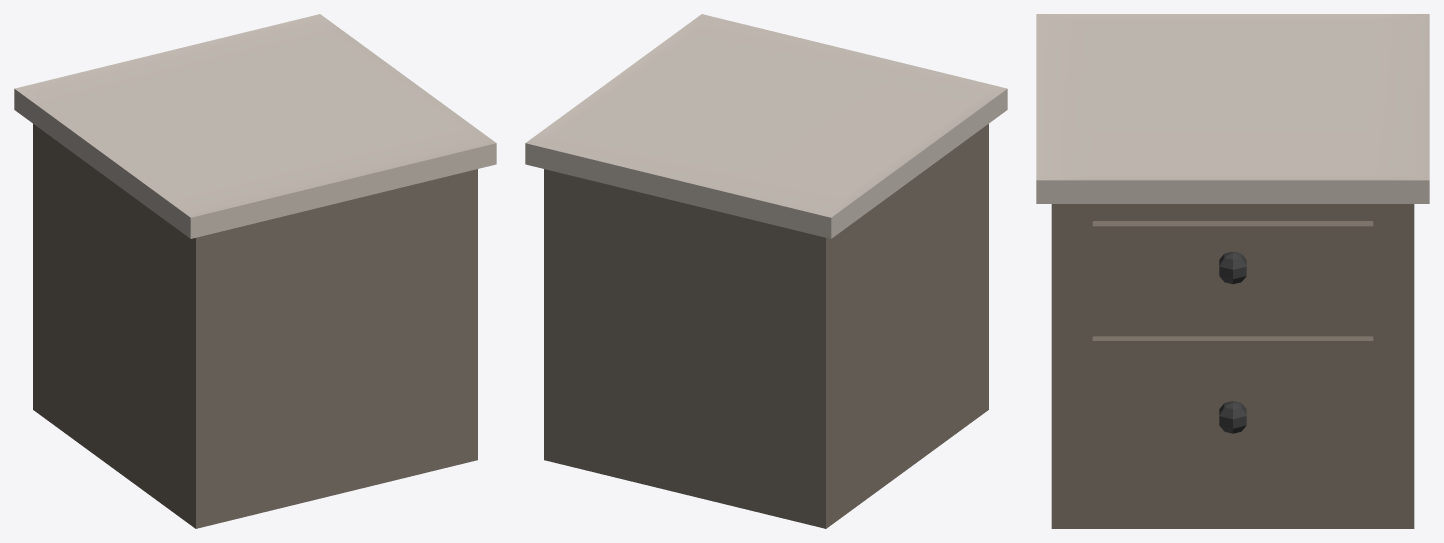
The model's file is kitchenware_counter.fbx.
3 renders of one model, left to right at view 1: azimuth 30°, elevation 25°; view 2: azimuth 150°, elevation 25°; view 3: azimuth 270°, elevation 25°, orthographic. The views are drawn at different scales.
Parts seen in each view (by area): view 1: knob; view 2: knob; view 3: knob.
Boxes of the visible parts, left/top/right/bottom form: knob: left=14, top=14, right=496, bottom=528; knob: left=525, top=14, right=1007, bottom=528; knob: left=1036, top=14, right=1429, bottom=528.
Size of the model in its own units: 14.77 by 14.04 by 14.08.
